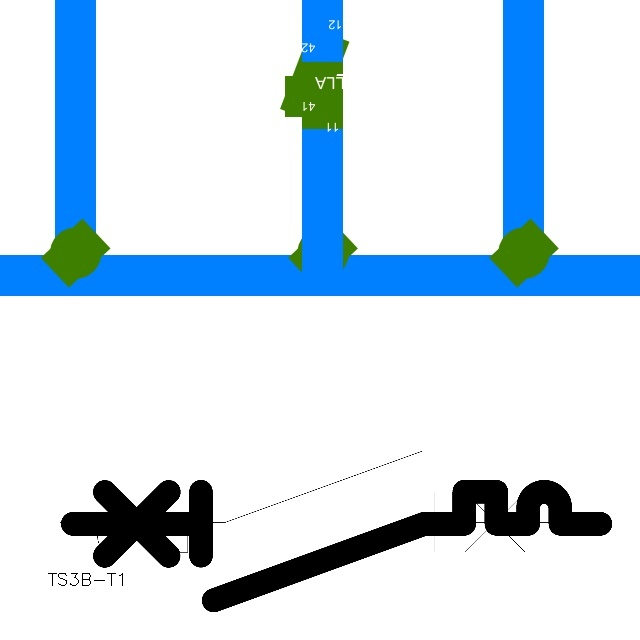interruptor_termomagnetico: (59, 478, 614, 614), (47, 438, 568, 565)
